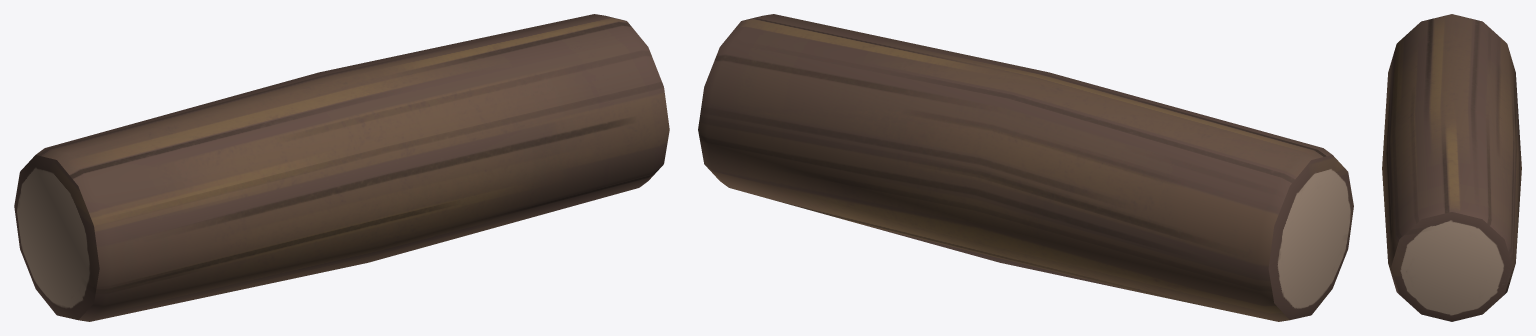
File: tocon_MJClara.fbx
3 renders of one model, left to right at view 1: azimuth 30°, elevation 25°; view 2: azimuth 150°, elevation 25°; view 3: azimuth 270°, elevation 25°, orthographic. The views are drawn at different scales.
Visible parts, largest first — view 1: tronco_final; view 2: tronco_final; view 3: tronco_final.
Boxes of the visible parts, x1,y1,x2,y2 form: tronco_final: (14,14,669,321); tronco_final: (698,14,1353,321); tronco_final: (1382,14,1521,321).
Bounding box in the file's own units: 212 × 62.49 × 62.49.
